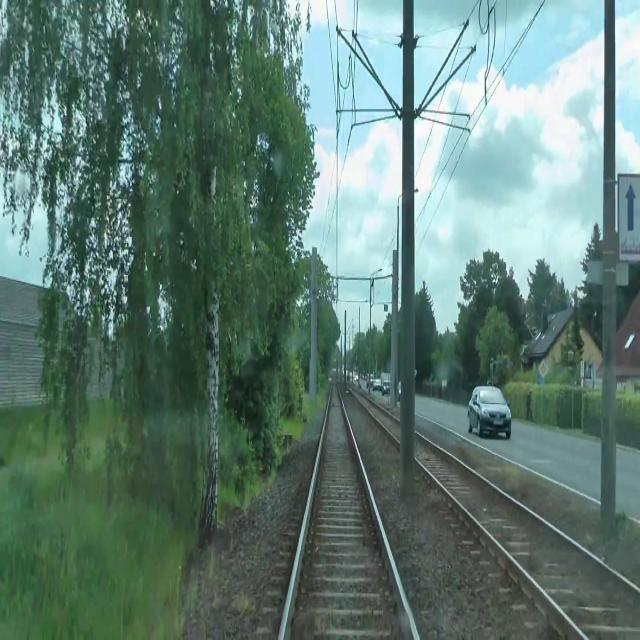rail-track: (414, 435, 640, 639), (284, 382, 413, 639), (362, 398, 400, 437)
